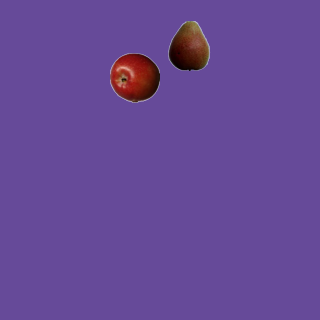Apple Braeburn: (109, 52, 159, 102)
Pear Forelle: (163, 20, 213, 70)
